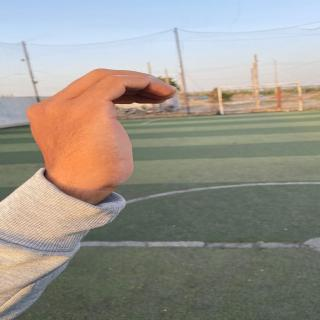HAA: (4, 56, 198, 203)
